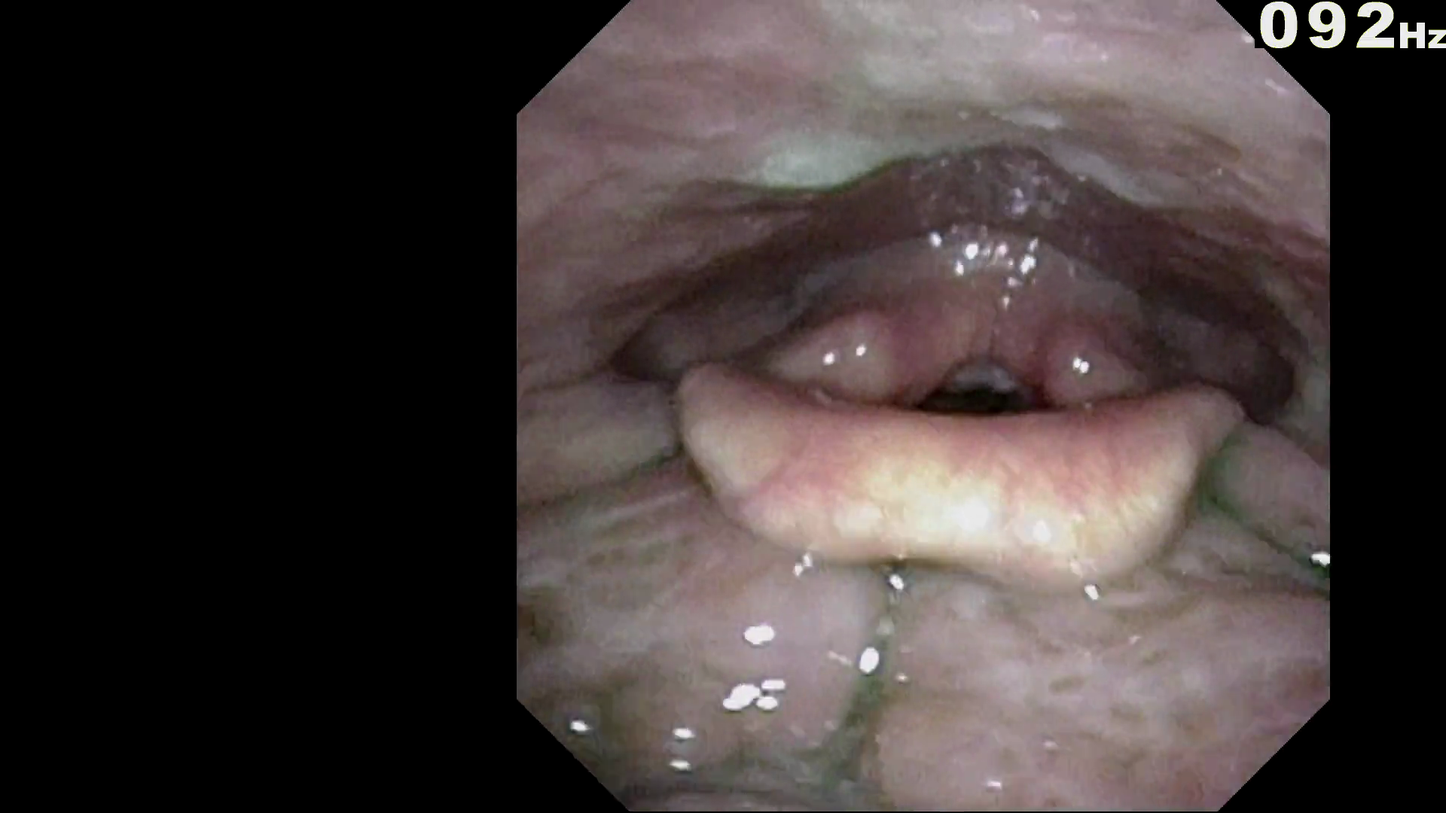epiglottis: (649, 398, 1261, 589)
trachea: (906, 372, 1043, 451)
